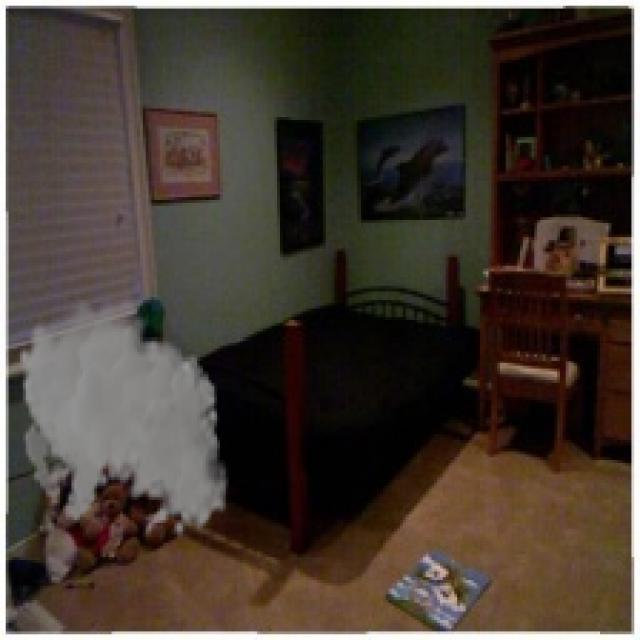Smoke: (17, 288, 229, 538)
